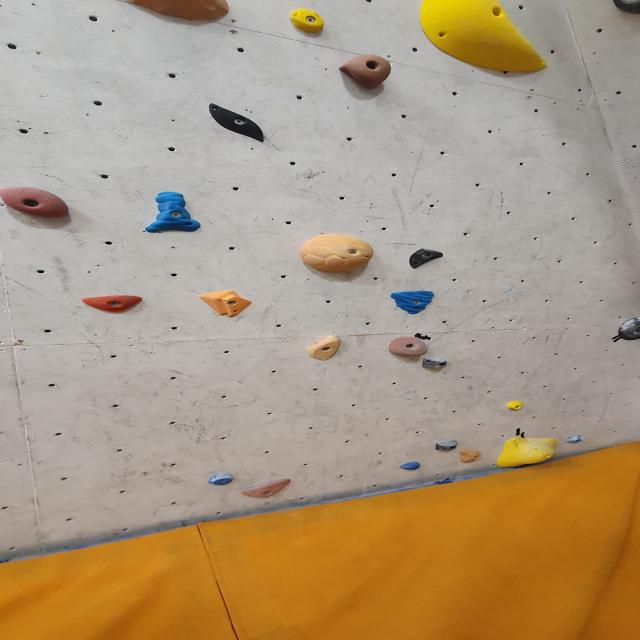Crimp: (389, 290, 436, 314), (81, 295, 147, 312), (239, 480, 295, 500), (207, 473, 236, 485), (399, 461, 422, 470), (566, 435, 584, 442)
Jug: (0, 188, 74, 220), (338, 56, 394, 93), (387, 337, 429, 359)
Pinch: (146, 189, 204, 234), (305, 337, 343, 362), (421, 356, 449, 371), (436, 442, 461, 454)
Pocket: (615, 316, 640, 344)
Sloper: (419, 0, 551, 76), (299, 235, 376, 276), (112, 0, 233, 25), (202, 101, 268, 143), (496, 438, 561, 470), (198, 290, 254, 318), (287, 9, 326, 37), (408, 248, 444, 268), (457, 450, 480, 464), (506, 400, 524, 410)
